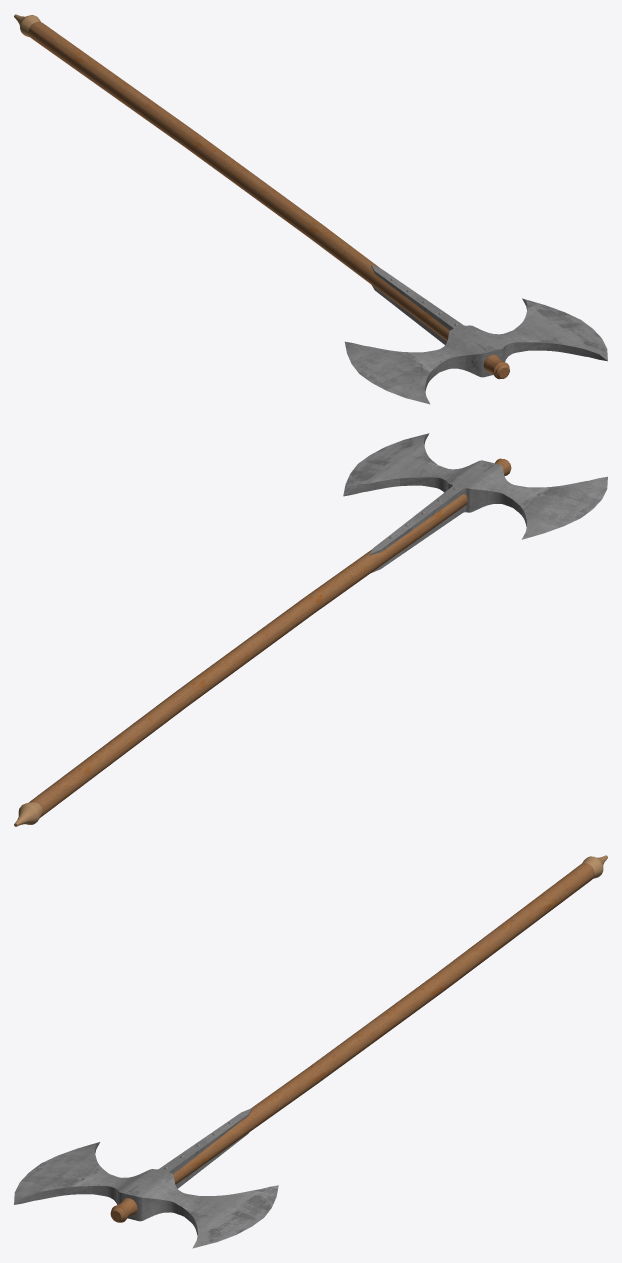
The model's file is PoleAxe.fbx.
3 views of the same model, one above another, from view 1: azimuth 30°, elevation 25°; view 2: azimuth 150°, elevation 25°; view 3: azimuth 330°, elevation 25° (orthographic).
Parts seen in each view (by area): view 1: Sphere; view 2: Sphere; view 3: Sphere.
Part boxes in pixels (box(x1,y1,x2,y2)): Sphere: box(14, 14, 607, 404); Sphere: box(14, 433, 607, 826); Sphere: box(14, 855, 607, 1248).
Size of the model in its own units: 40.7 by 4.73 by 160.
